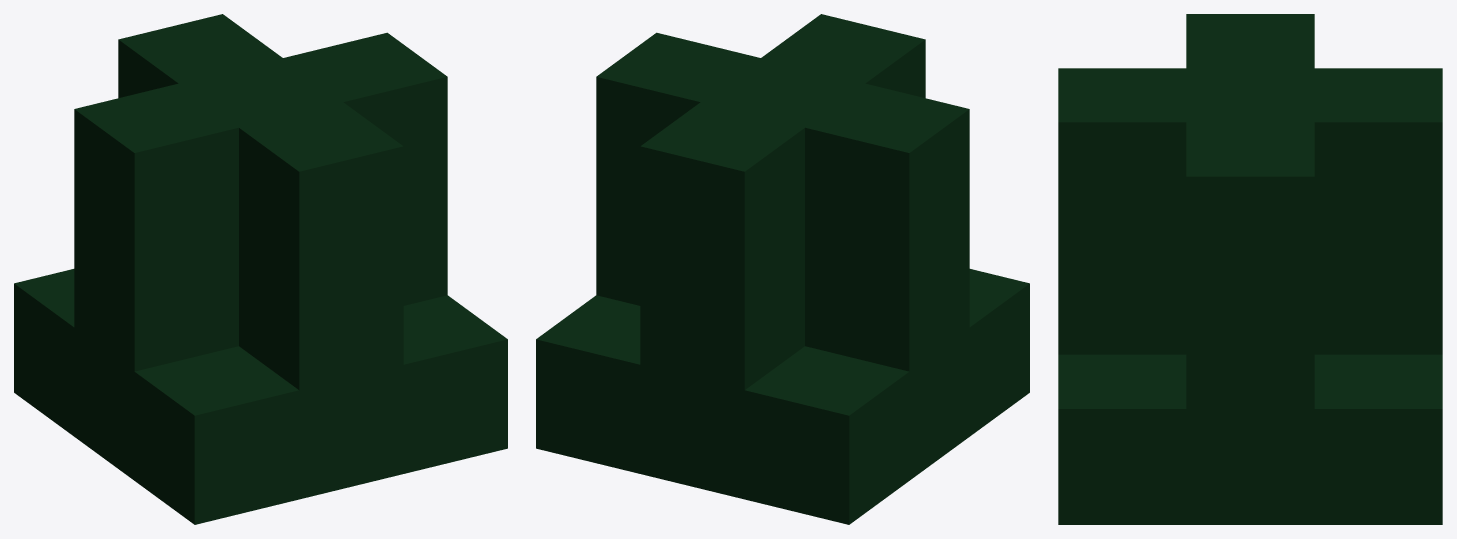
File: indicatorOFF.obj
3 renders of one model, left to right at view 1: azimuth 30°, elevation 25°; view 2: azimuth 150°, elevation 25°; view 3: azimuth 270°, elevation 25°, orthographic. The views are drawn at different scales.
Bounding box in the file's own units: 0.3 × 0.3 × 0.3.
Materials: 1 (1 with a texture image).
